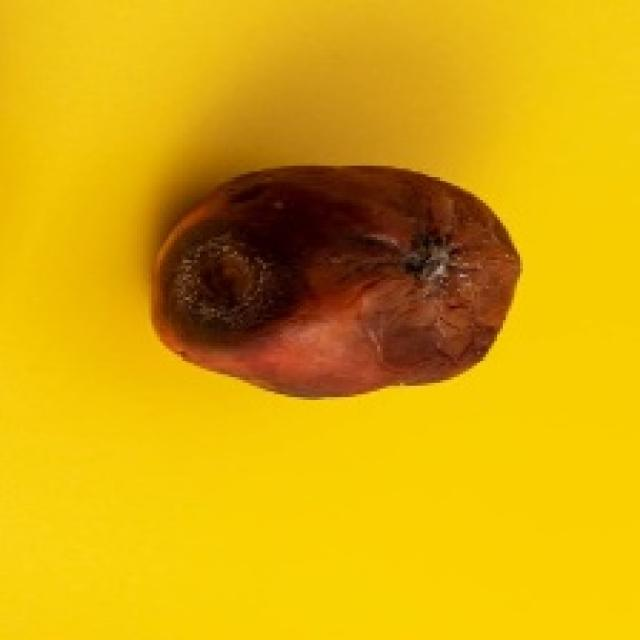rotten_apple: (155, 168, 337, 394), (354, 164, 520, 384)
